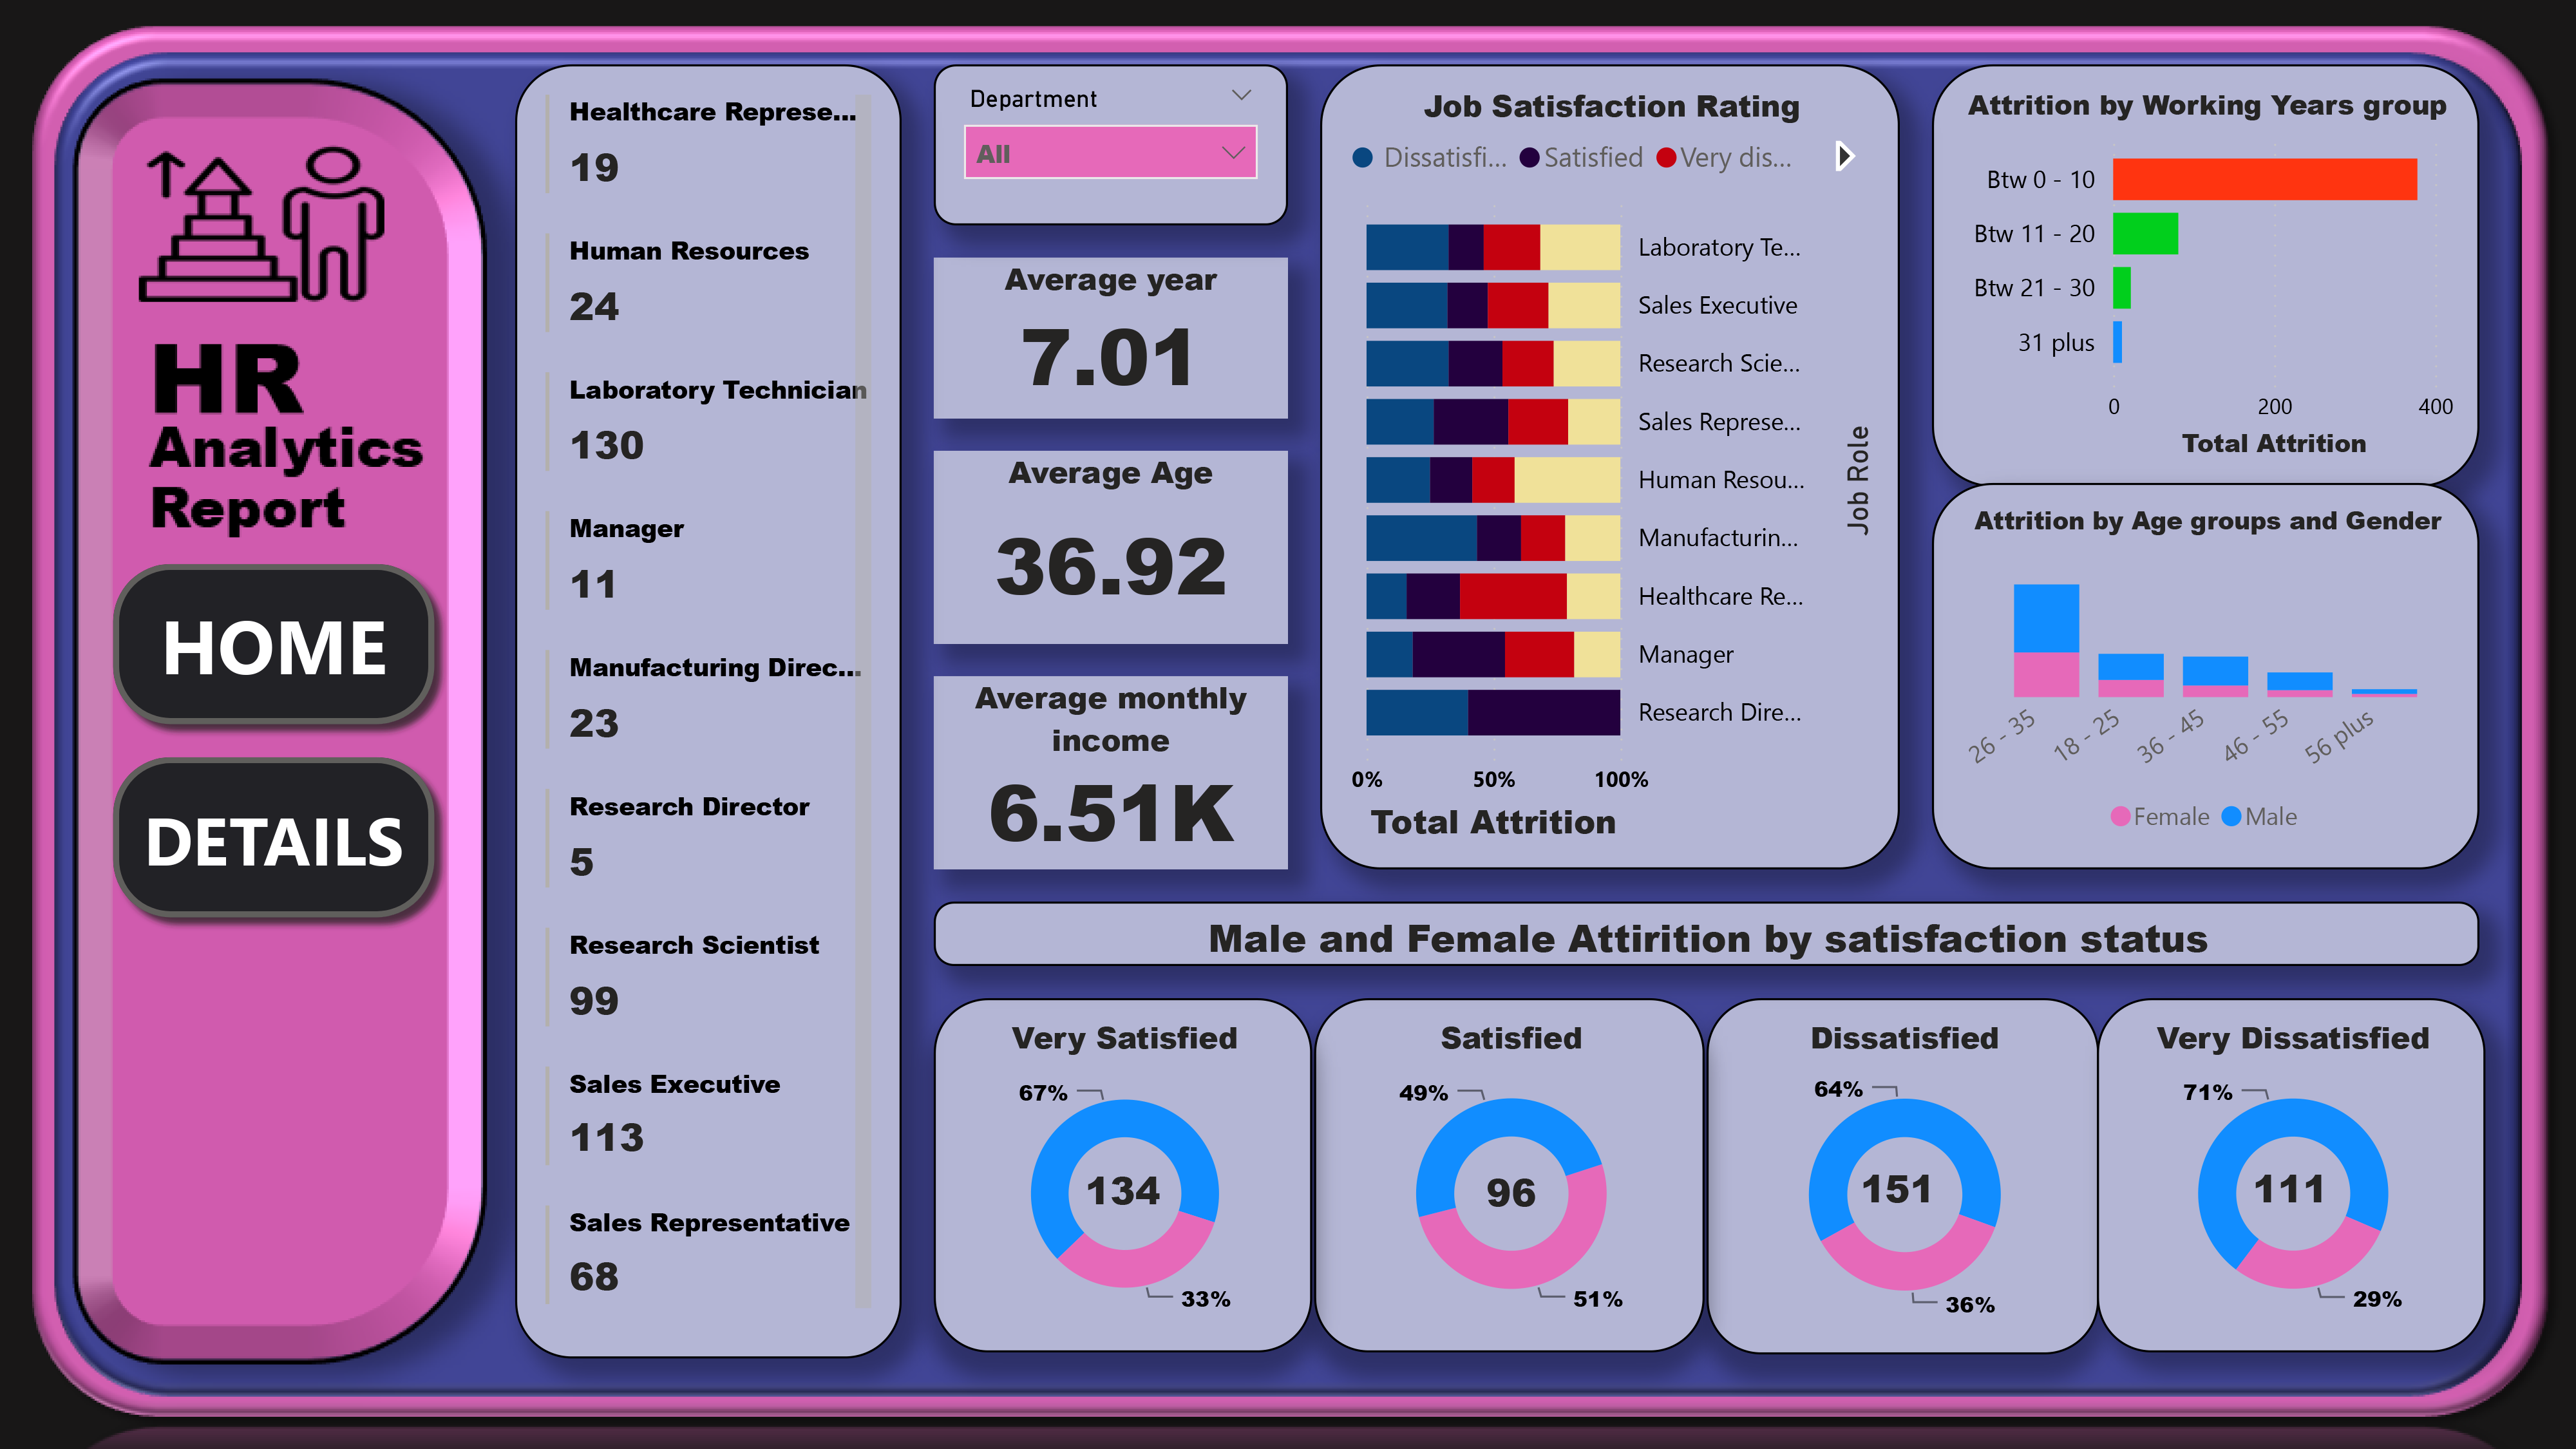

This screenshot's page, from the dashboard's own definition file:
{"tool":"powerbi","page":{"name":"DETAILS","canvas":[1280,720],"ordinal":1},"visuals":[{"type":"card","title":"Average year","fields":{"Values":["Avg(Data.Years At Company)"]},"box":[464,128,176,80],"z":0},{"type":"card","title":"Average Age","fields":{"Values":["Avg(Data.Age)"]},"box":[464,224,176,96],"z":1000},{"type":"barChart","title":"Attrition by Working Years group ","fields":{"Category":["Data.Working hour group "],"Y":["All measures.Total Attrition"]},"box":[960,32,272,210],"z":2000},{"type":"card","title":"Average monthly income","fields":{"Values":["Avg(Data.Monthly Income)"]},"box":[464,336,176,96],"z":3000},{"type":"slicer","fields":{"Values":["Data.Department"]},"box":[464,32,176,80],"z":6000},{"type":"donutChart","title":"Dissatisfied","fields":{"Y":["All measures.Total Attrition"],"Category":["Data.Gender"],"Series":["Data.Job satisfaction status"]},"box":[848,496,195,177],"z":7000},{"type":"card","fields":{"Values":["All measures.Total Attrition"]},"box":[903,560,80,64],"z":8000},{"type":"donutChart","title":"Satisfied","fields":{"Y":["All measures.Total Attrition"],"Category":["Data.Gender"],"Series":["Data.Job satisfaction status"]},"box":[653,496,194,176],"z":9000},{"type":"donutChart","title":" Very Dissatisfied","fields":{"Y":["All measures.Total Attrition"],"Category":["Data.Gender"],"Series":["Data.Job satisfaction status"]},"box":[1042,496,193,176],"z":10000},{"type":"donutChart","title":"Very Satisfied","fields":{"Y":["All measures.Total Attrition"],"Category":["Data.Gender"],"Series":["Data.Job satisfaction status"]},"box":[464,496,188,176],"z":11000},{"type":"card","fields":{"Values":["All measures.Total Attrition"]},"box":[711,570,80,48],"z":12000},{"type":"card","fields":{"Values":["All measures.Total Attrition"]},"box":[1098,576,80,32],"z":13000},{"type":"card","fields":{"Values":["All measures.Total Attrition"]},"box":[518,569,80,48],"z":14000},{"type":"columnChart","title":"Attrition by Age groups and Gender","fields":{"Y":["All measures.Total Attrition"],"Series":["Data.Gender"],"Category":["Data.Age groups"]},"box":[960,240,272,192],"z":15000},{"type":"hundredPercentStackedBarChart","title":"Job Satisfaction Rating","fields":{"Category":["Data.Job Role"],"Y":["All measures.Total Attrition"],"Series":["Data.Job satisfaction status"]},"box":[656,32,288,400],"z":16000},{"type":"multiRowCard","fields":{"Values":["Data.Job Role","All measures.Total Attrition"]},"box":[256,32,192,643],"z":17000},{"type":"textbox","title":"Male and Female Attirition by satisfaction status","box":[464,448,768,32],"z":18000},{"type":"actionButton","box":[48,272,176,96],"z":19000},{"type":"actionButton","box":[48,368,176,96],"z":20000}]}

Visuals, with their boxes in screenshot pixels (x1, y1, x2, y2), scaled from the page's 1280x720 canvas onto the 2576x1449 screenshot:
"Average year" card: left=934, top=258, right=1288, bottom=419
"Average Age" card: left=934, top=451, right=1288, bottom=644
"Attrition by Working Years group " barChart: left=1932, top=64, right=2479, bottom=487
"Average monthly income" card: left=934, top=676, right=1288, bottom=869
slicer - Data.Department: left=934, top=64, right=1288, bottom=225
"Dissatisfied" donutChart: left=1707, top=998, right=2099, bottom=1354
card - All measures.Total Attrition: left=1817, top=1127, right=1978, bottom=1256
"Satisfied" donutChart: left=1314, top=998, right=1705, bottom=1352
" Very Dissatisfied" donutChart: left=2097, top=998, right=2485, bottom=1352
"Very Satisfied" donutChart: left=934, top=998, right=1312, bottom=1352
card - All measures.Total Attrition: left=1431, top=1147, right=1592, bottom=1244
card - All measures.Total Attrition: left=2210, top=1159, right=2371, bottom=1224
card - All measures.Total Attrition: left=1043, top=1145, right=1204, bottom=1242
"Attrition by Age groups and Gender" columnChart: left=1932, top=483, right=2479, bottom=869
"Job Satisfaction Rating" hundredPercentStackedBarChart: left=1320, top=64, right=1900, bottom=869
multiRowCard - Data.Job Role x All measures.Total Attrition: left=515, top=64, right=902, bottom=1358
"Male and Female Attirition by satisfaction status" textbox: left=934, top=902, right=2479, bottom=966
actionButton: left=97, top=547, right=451, bottom=741
actionButton: left=97, top=741, right=451, bottom=934
